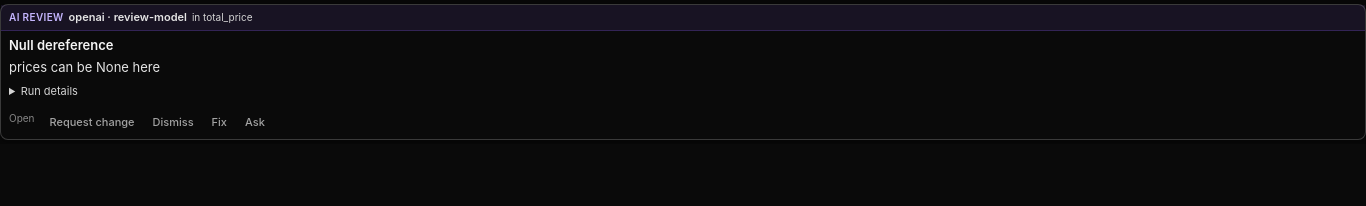
Scenario: AnnotationCard › gives AI findings bounded reviewer actions, requires a dismissal reason, and hides raw confidence by default
Expected: the button "Request change" is shown, [42,111,142,135]
Expected: the button "Fix" is shown, [205,111,234,135]
Click the button "Dismiss". click: (173, 123)
box: [146,111,200,135]
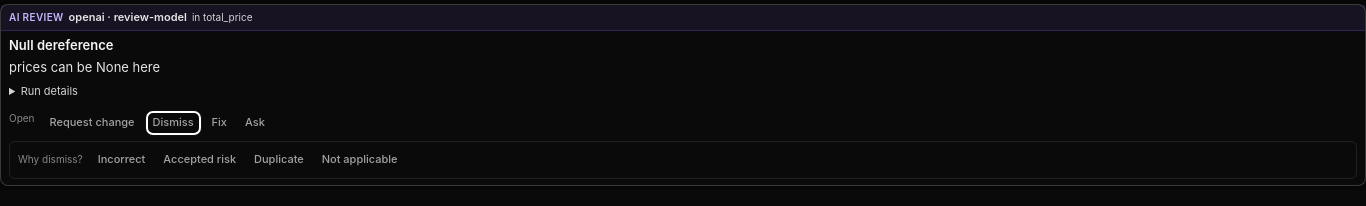
Result: the element named "Dismiss finding reason" is shown at [9,141,1357,179]
Click the button "Accepted risk". click: (200, 160)
box: [156,148,243,172]
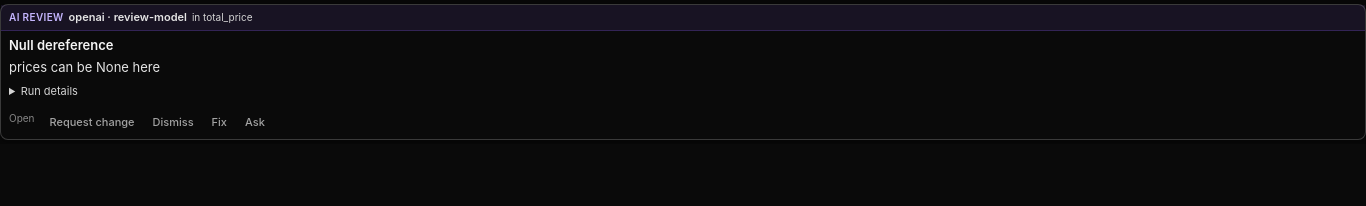
Click the heading "Run details". click: (49, 91)
box: [21,84,78,98]
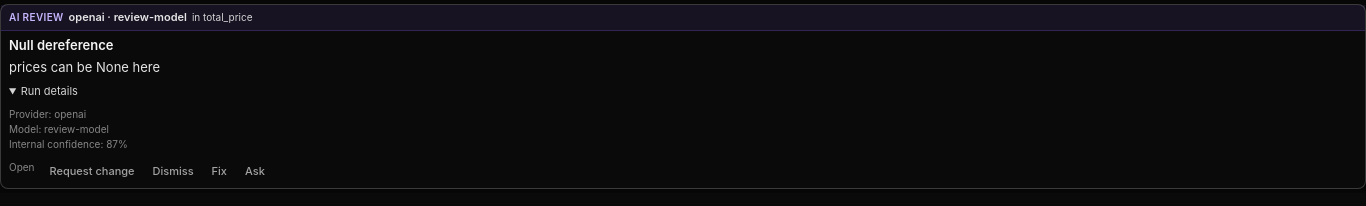
Result: the text "Internal confidence: 87%" is shown at [9,138,128,150]
